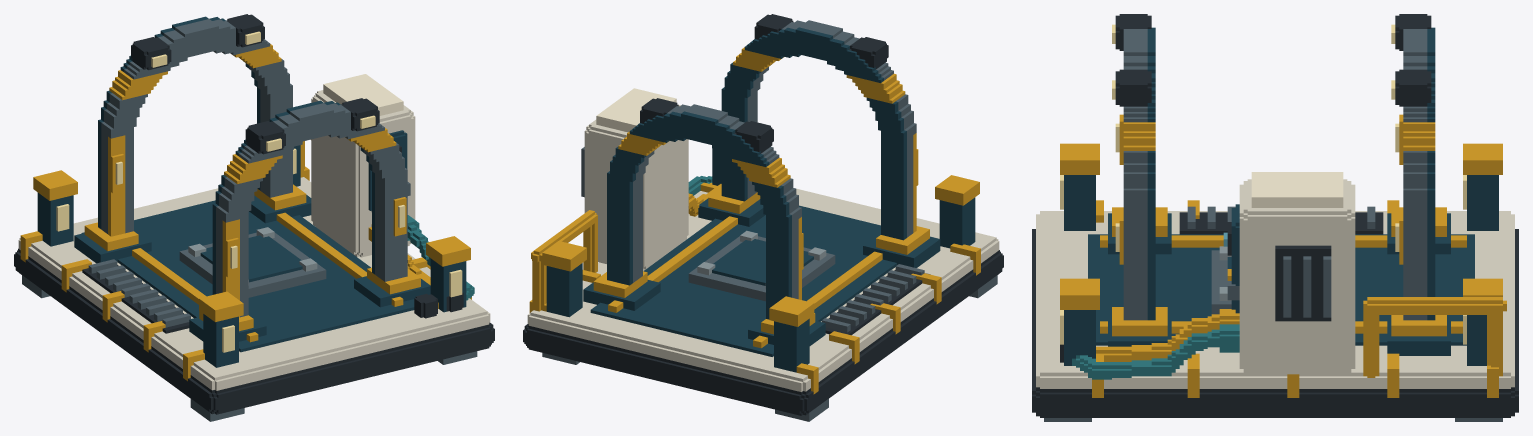
The model's file is docking_station.glb.
3 renders of one model, left to right at view 1: azimuth 30°, elevation 25°; view 2: azimuth 150°, elevation 25°; view 3: azimuth 270°, elevation 25°, orthographic. The views are drawn at different scales.
Visible parts, largest first — view 1: docking_station; view 2: docking_station; view 3: docking_station.
Boxes of the visible parts, left/top/right/bottom form: docking_station: left=14, top=14, right=494, bottom=421; docking_station: left=523, top=14, right=1003, bottom=421; docking_station: left=1032, top=14, right=1518, bottom=421.
Bounding box in the file's own units: 5.83 × 4.62 × 6.71.
